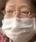with_mask: (2, 2, 36, 42)
